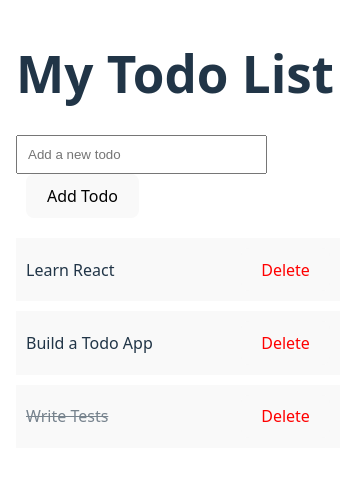
Test: TodoList Component › adds a new todo
Type "New Todo" into the field with placeholder "Add a new todo". click: (141, 155)
box: [16,135,267,174]
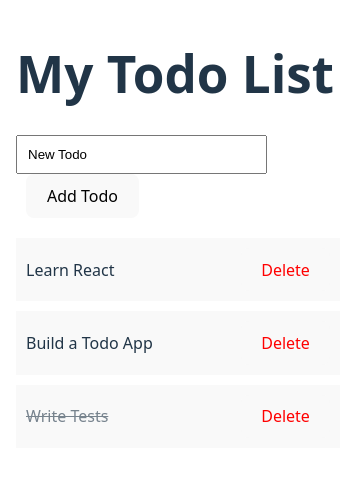
Click the button "Add Todo". click: (82, 196)
box: [26,174,139,218]
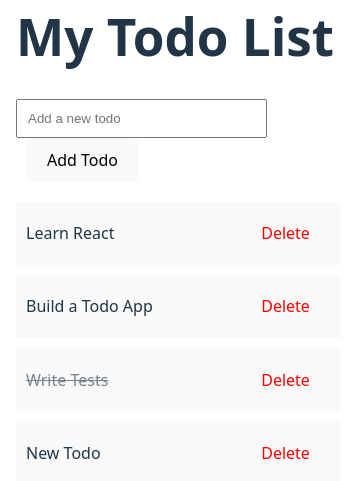
Expected: the text "New Todo" is shown, [26,441,101,465]
